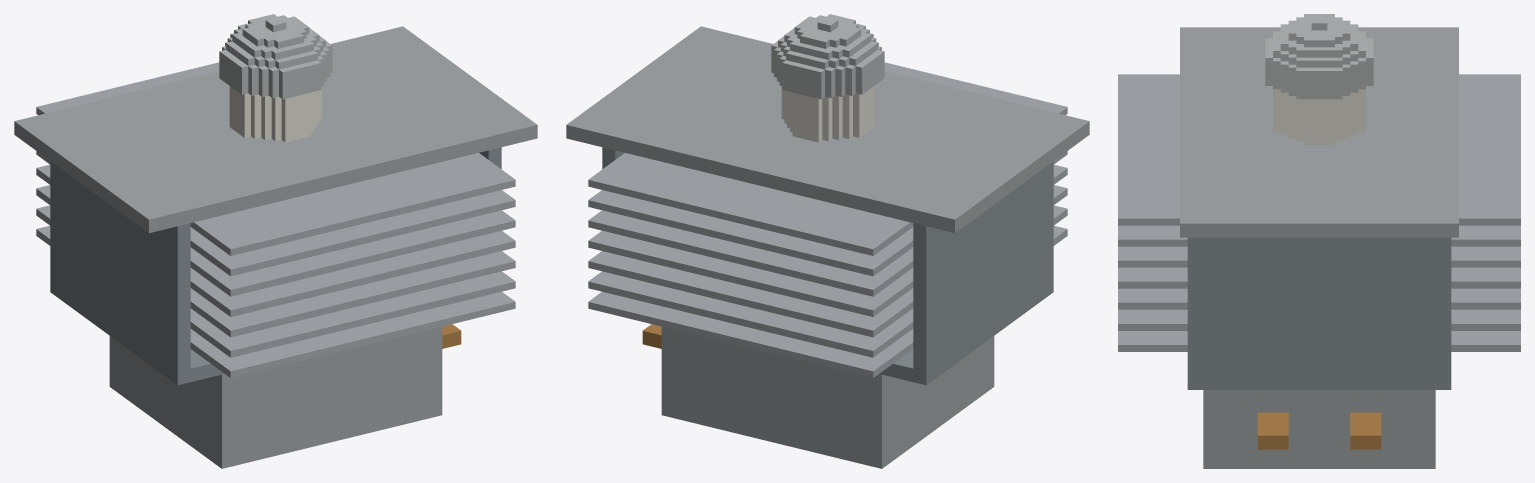
The model's file is magnetron.glb.
3 renders of one model, left to right at view 1: azimuth 30°, elevation 25°; view 2: azimuth 150°, elevation 25°; view 3: azimuth 270°, elevation 25°, orthographic. The views are drawn at different scales.
Parts seen in each view (by area): view 1: magnetron:compound; view 2: magnetron:compound; view 3: magnetron:compound.
Part boxes in pixels (bbox=[...]): magnetron:compound: bbox=[14, 14, 537, 468]; magnetron:compound: bbox=[566, 14, 1089, 468]; magnetron:compound: bbox=[1118, 14, 1520, 468].
Bounding box in the file's own units: 0.12 × 0.112 × 0.104.
